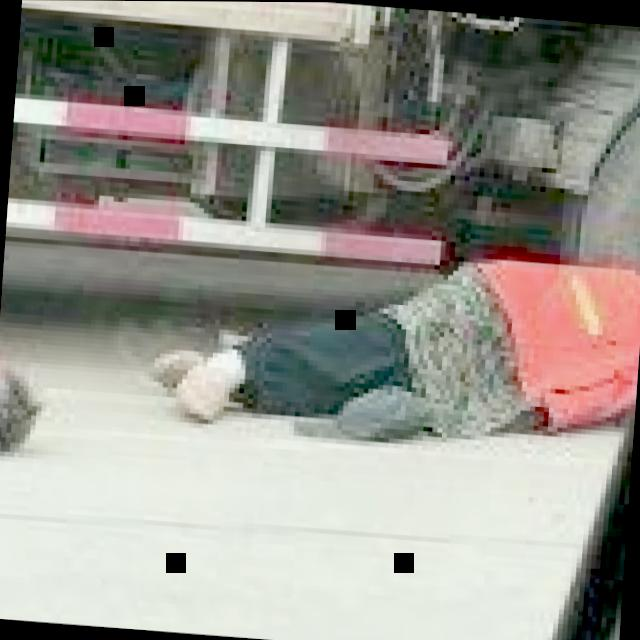Fall-Detected: (155, 195, 640, 460)
